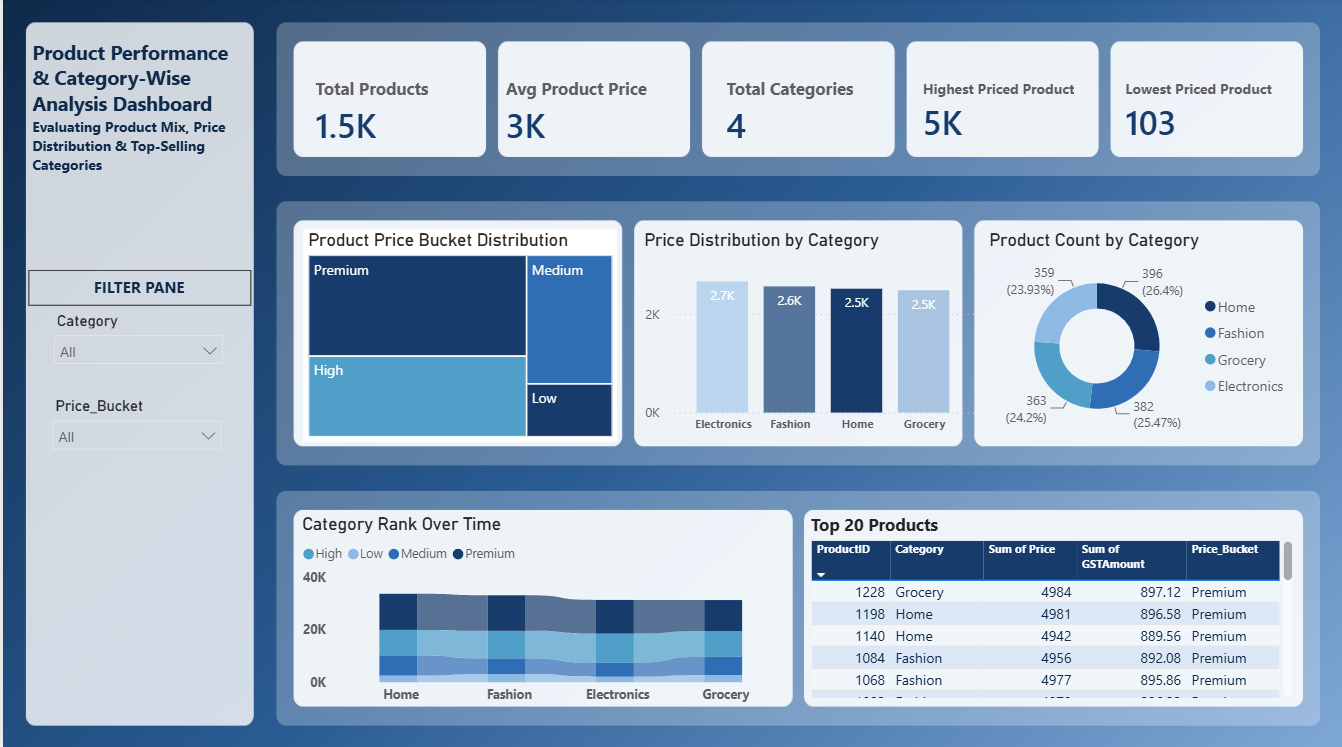

Layout of this report page (visuals, bound fields, positions):
{"tool":"powerbi","page":{"name":"Page 3","canvas":[1280,720],"ordinal":2},"visuals":[{"type":"cardVisual","fields":{"Data":["CountNonNull(Dim_Products.ProductID)"]},"box":[268.8,51.2,210,115],"z":0},{"type":"cardVisual","fields":{"Data":["Count(Dim_Products.Category)"]},"box":[661.2,51.2,210,115],"z":1},{"type":"cardVisual","fields":{"Data":["Max(Dim_Products.Price)"]},"box":[848.8,51.2,210,115],"z":2},{"type":"cardVisual","fields":{"Data":["Min(Dim_Products.Price)"]},"box":[1042.5,51.2,210,115],"z":3},{"type":"cardVisual","fields":{"Data":["Avg(Dim_Products.Price)"]},"box":[451.2,51.2,210,115],"z":4},{"type":"clusteredColumnChart","title":"Price Distribution by Category","fields":{"Category":["Dim_Products.Category"],"Y":["Avg(Dim_Products.Price)"]},"box":[607.5,222.5,328.8,202.5],"z":5},{"type":"treemap","title":"Product Price Bucket Distribution","fields":{"Group":["Dim_Products.Price_Bucket"],"Values":["CountNonNull(Dim_Products.ProductID)"]},"box":[286.2,222.5,300,202.5],"z":6},{"type":"donutChart","title":"Product Count by Category","fields":{"Category":["Dim_Products.Category"],"Y":["CountNonNull(Dim_Products.ProductID)"]},"box":[936.2,222.5,300,202.5],"z":7},{"type":"ribbonChart","title":"Category Rank Over Time","fields":{"Category":["Dim_Products.Category"],"Series":["Dim_Products.Price_Bucket"],"Y":["Sum(Fact_OrderDetails.Qty)"]},"box":[281.2,492.5,476.2,191.2],"z":8},{"type":"tableEx","title":"Top 20 Products","fields":{"Values":["Dim_Products.ProductID","Dim_Products.Category","Sum(Dim_Products.Price)","Sum(Dim_Products.GSTAmount)","Dim_Products.Price_Bucket"]},"box":[766.2,492.5,470,181.2],"z":9},{"type":"slicer","fields":{"Values":["Dim_Products.Category"]},"box":[38.8,295,181.2,81.2],"z":10},{"type":"slicer","fields":{"Values":["Dim_Products.Price_Bucket"]},"box":[37.5,376.2,181.2,81.2],"z":12},{"type":"textbox","box":[23.8,261.2,212.5,33.8],"z":13},{"type":"textbox","box":[22.5,33.8,212.5,90],"z":14},{"type":"textbox","box":[22.5,108.8,212.5,90],"z":15}]}

Visuals, with their boxes in screenshot pixels (x1, y1, x2, y2), scaled from the page's 1280x720 canvas onto the 1342x747 screenshot:
cardVisual - CountNonNull(Dim_Products.ProductID): rect(282, 53, 502, 172)
cardVisual - Count(Dim_Products.Category): rect(693, 53, 913, 172)
cardVisual - Max(Dim_Products.Price): rect(890, 53, 1110, 172)
cardVisual - Min(Dim_Products.Price): rect(1093, 53, 1313, 172)
cardVisual - Avg(Dim_Products.Price): rect(473, 53, 693, 172)
"Price Distribution by Category" clusteredColumnChart: rect(637, 231, 982, 441)
"Product Price Bucket Distribution" treemap: rect(300, 231, 615, 441)
"Product Count by Category" donutChart: rect(982, 231, 1296, 441)
"Category Rank Over Time" ribbonChart: rect(295, 511, 794, 709)
"Top 20 Products" tableEx: rect(803, 511, 1296, 699)
slicer - Dim_Products.Category: rect(41, 306, 231, 390)
slicer - Dim_Products.Price_Bucket: rect(39, 390, 229, 475)
textbox: rect(25, 271, 248, 306)
textbox: rect(24, 35, 246, 128)
textbox: rect(24, 113, 246, 206)
